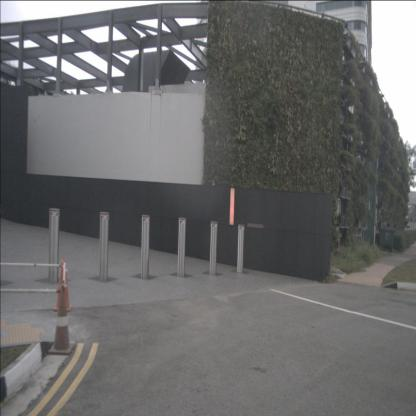cone: (47, 279, 75, 359), (50, 256, 74, 314)
